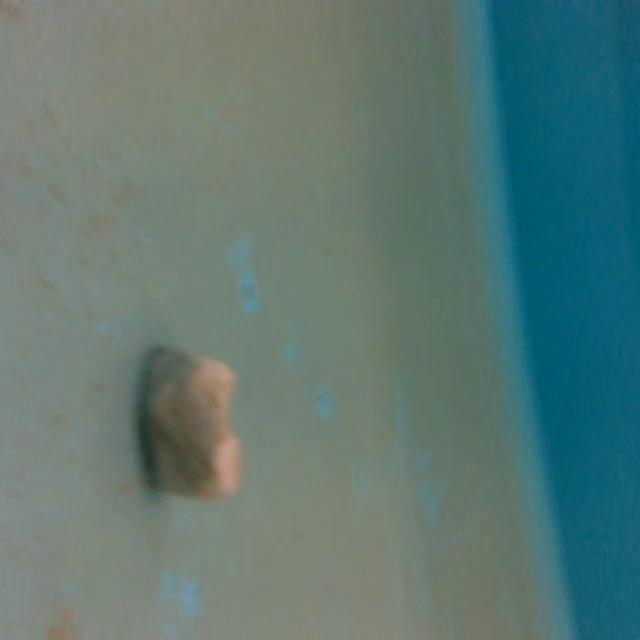rock: (139, 342, 247, 504)
